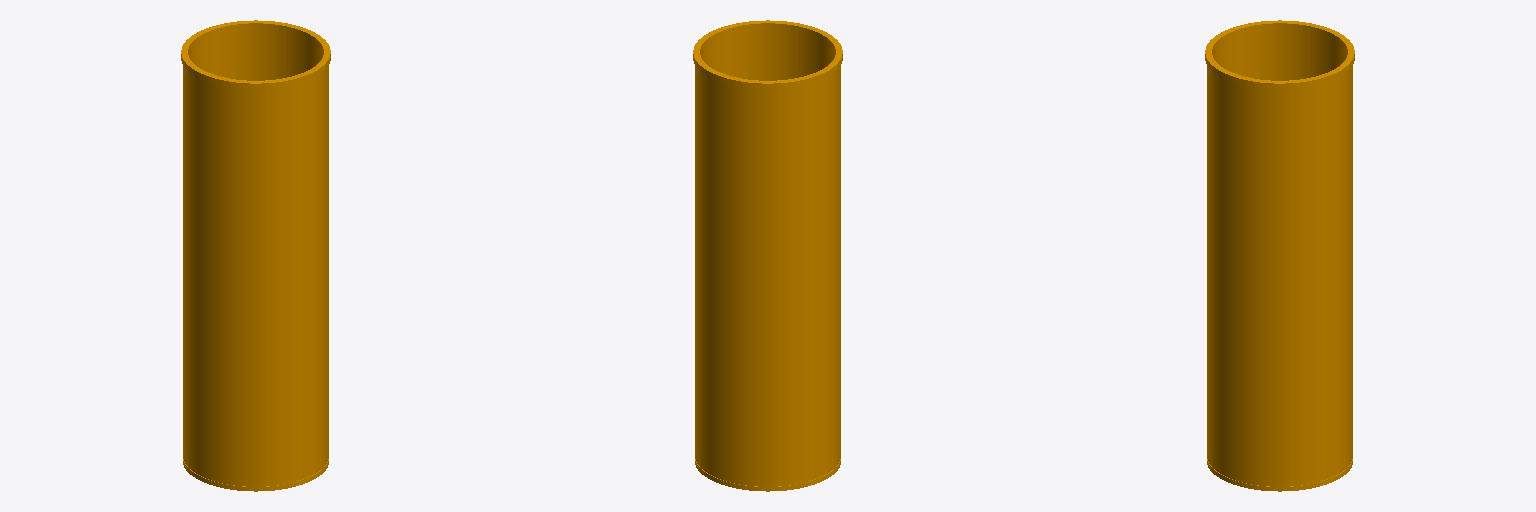
robot.urdf — Pringles Can:
<?xml version="1.0"?>
<robot name="Pringles Can">
  <link name="base_link">
    <inertial>
      <origin xyz="0.000000 0.000000 0.108707" rpy="0 0 0" />
      <mass value="0.144627" />
      <inertia ixx="0.00082475" ixy="0.00000000" ixz="-0.00000000"
               iyy="0.00082475" iyz="-0.00000000" izz="0.00018295" />
    </inertial>
    <visual>
      <geometry><mesh filename="Pringles Can.stl" scale="1.0 1.0 1.0" /></geometry>
    </visual>
    <collision>
      <geometry><mesh filename="Pringles Can_col.obj" scale="1.0 1.0 1.0" /></geometry>
    </collision>
    <contact>
      <lateral_friction value="1.0"/>
    </contact>
  </link>
</robot>

--- Render facts (derived) ---
Views: 3 orthographic renders of the robot side by side, from view 1: azimuth 30°, elevation 25°; view 2: azimuth 150°, elevation 25°; view 3: azimuth 270°, elevation 25°.
Robot: Pringles Can — 1 links, 0 joints (none); root link base_link; default pose: every joint at zero.
Visible links, largest first — view 1: base_link; view 2: base_link; view 3: base_link.
Link boxes in pixels (x1=…): base_link: x1=181, y1=20, x2=330, y2=491; base_link: x1=693, y1=20, x2=842, y2=491; base_link: x1=1205, y1=20, x2=1354, y2=491.
Bounding box of the posed robot: 0.0768 × 0.0768 × 0.2318 m (x, y, z).
1 mesh visuals loaded from 1 distinct referenced files (1 binary STL).
